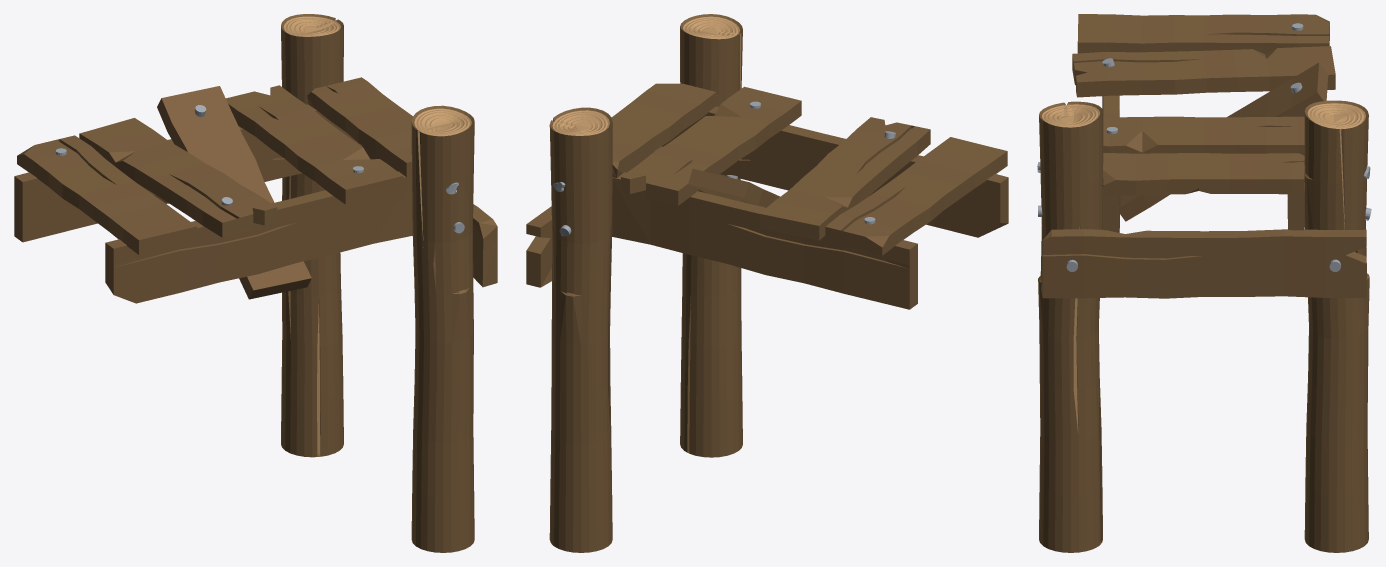
Rendered from Dock 3.fbx.
The picture shows the model from 3 angles, left to right: view 1: azimuth 30°, elevation 25°; view 2: azimuth 150°, elevation 25°; view 3: azimuth 270°, elevation 25°; orthographic projection.
Parts seen in each view (by area): view 1: Dock 3; view 2: Dock 3; view 3: Dock 3.
Boxes of the visible parts, x1,y1,x2,y2 form: Dock 3: (14,14,497,552); Dock 3: (526,14,1008,552); Dock 3: (1037,14,1371,552).
Bounding box in the file's own units: 3.86 × 4.33 × 3.07.
